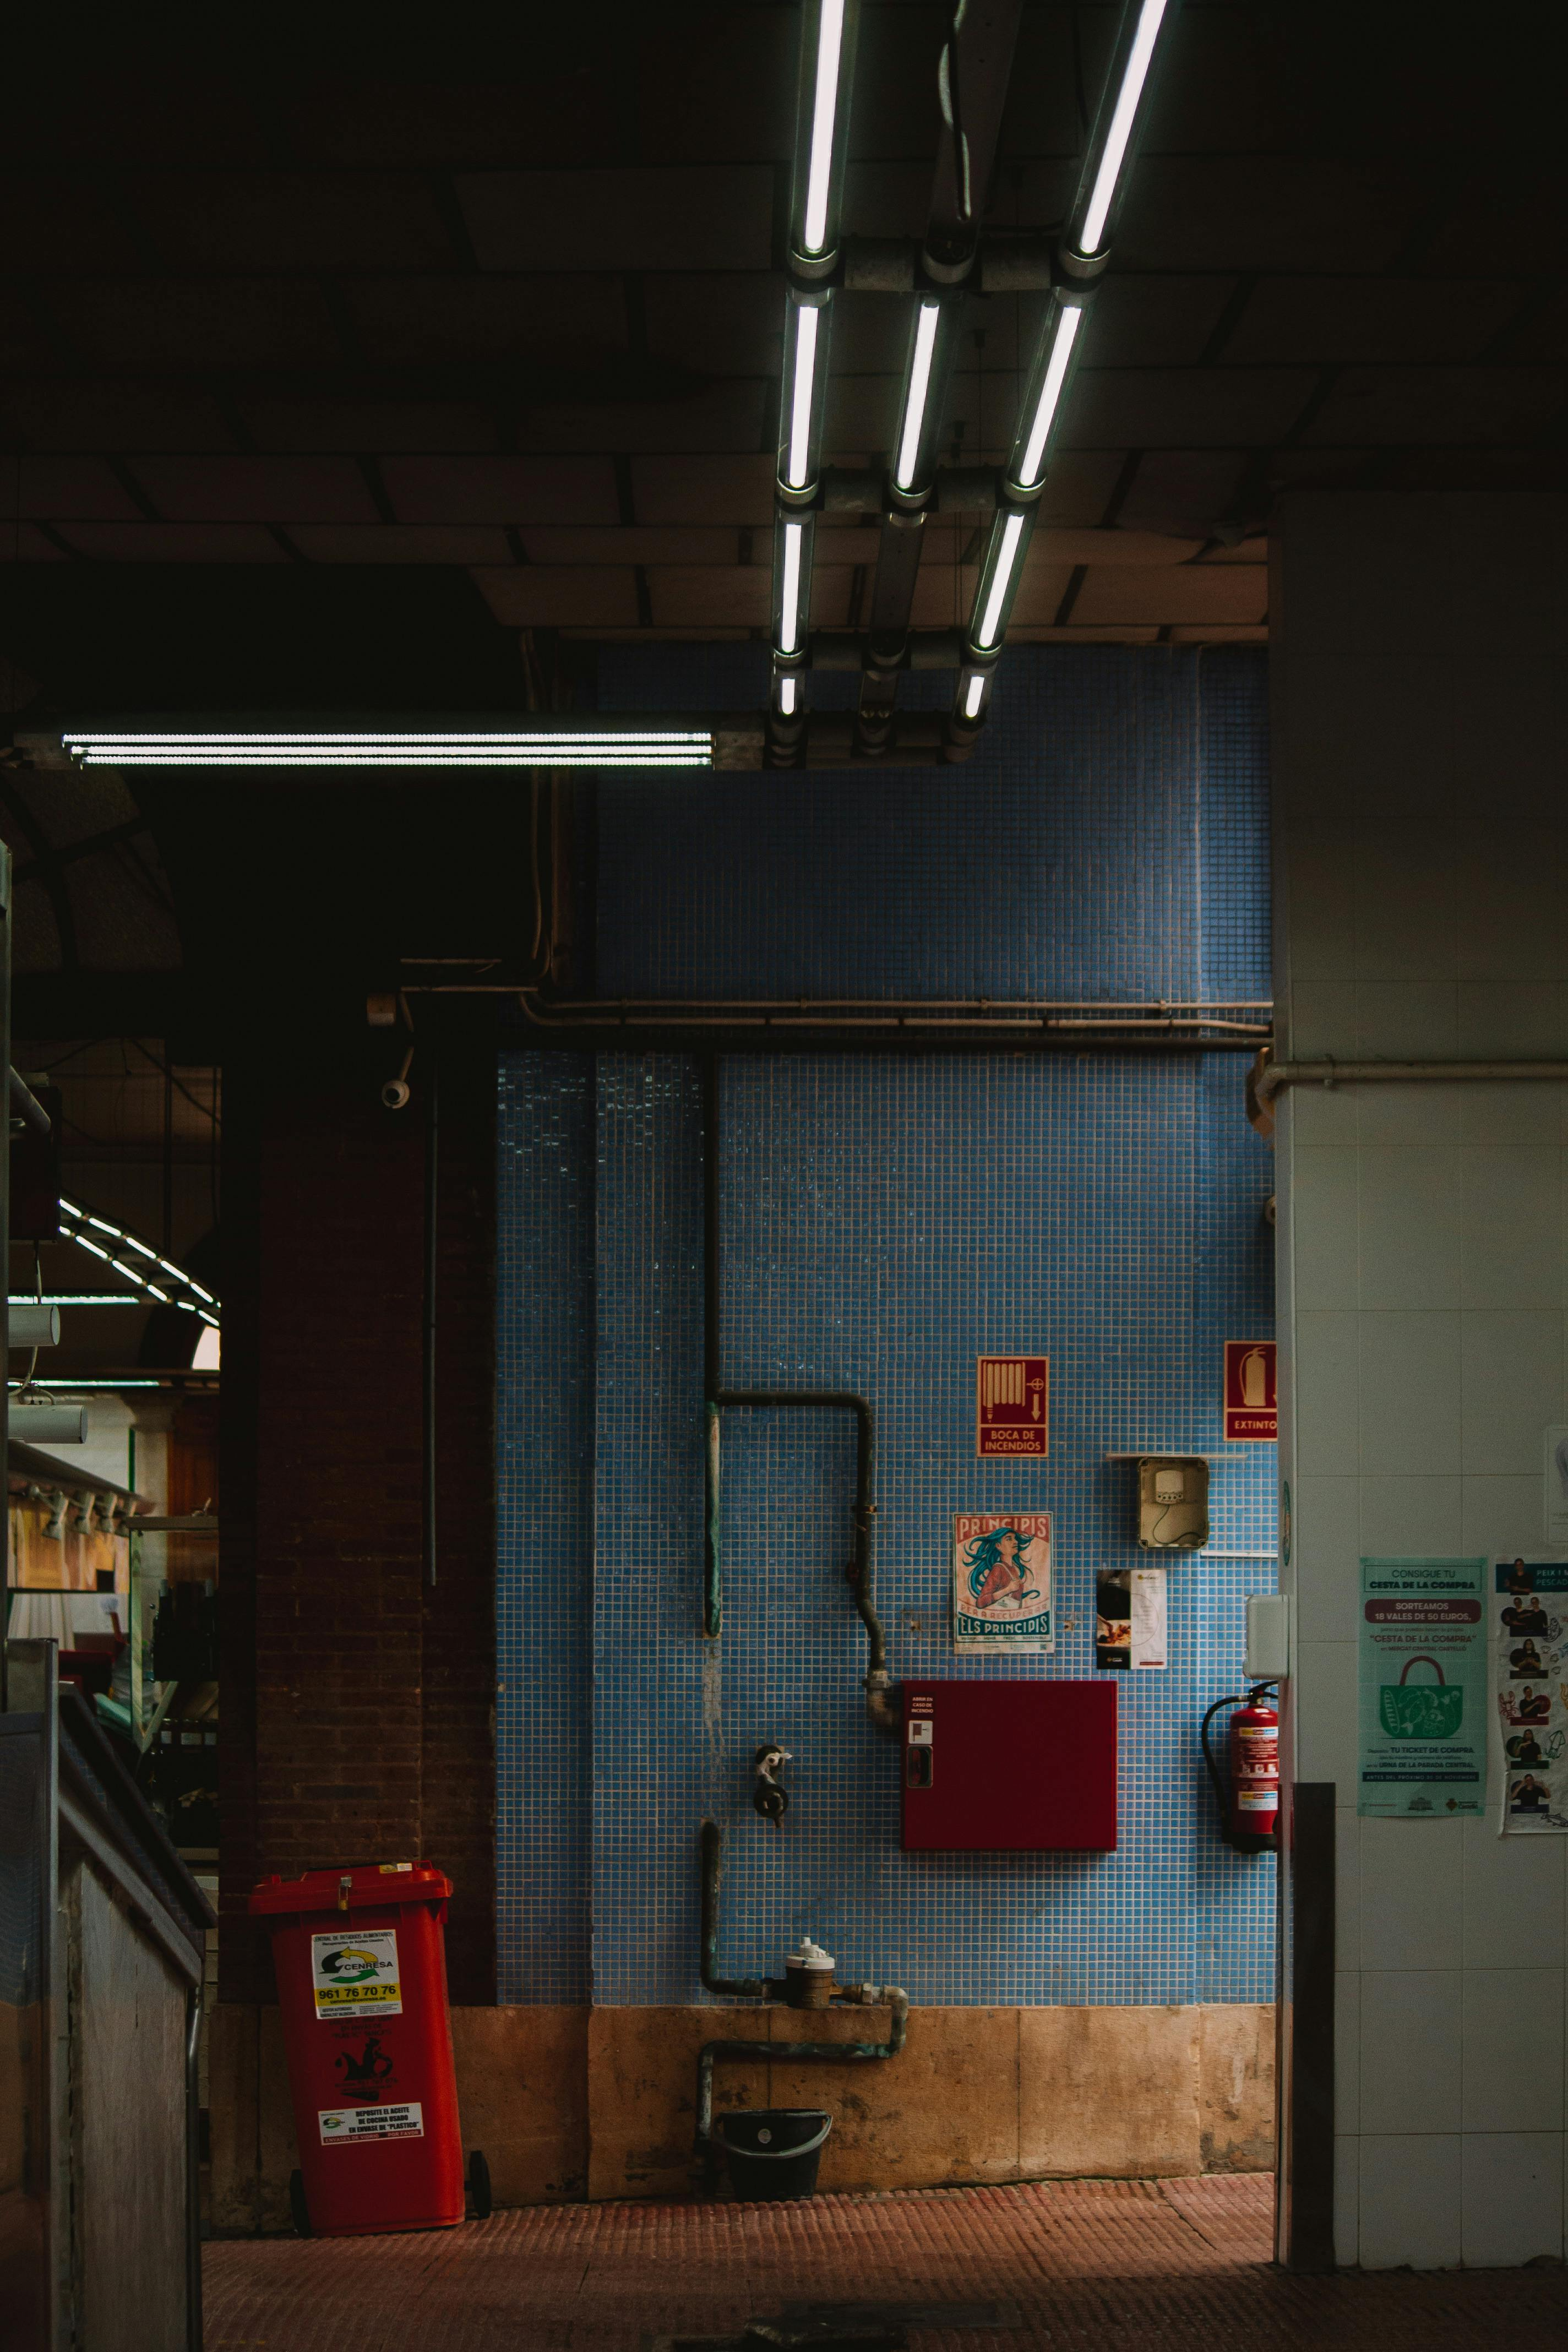extintor: (1179, 1666, 1286, 1867)
